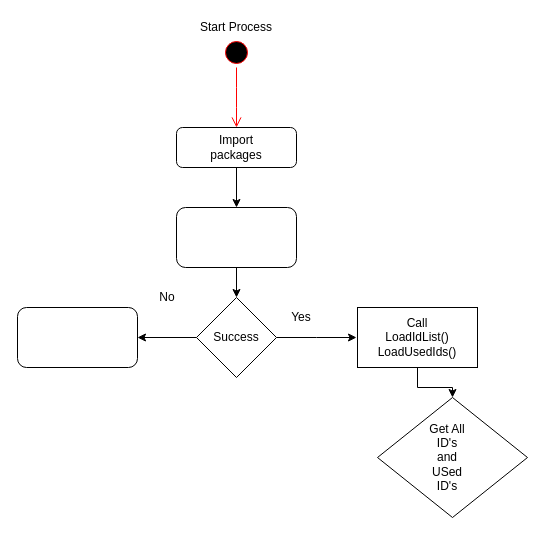
Image size: 545x535. Some labels were removed from this diagram. The centre of each missing label's shape, as x and y in pixels:
"Call Function Load" goes at (x=236, y=237).
"Print Error" goes at (x=77, y=337).
